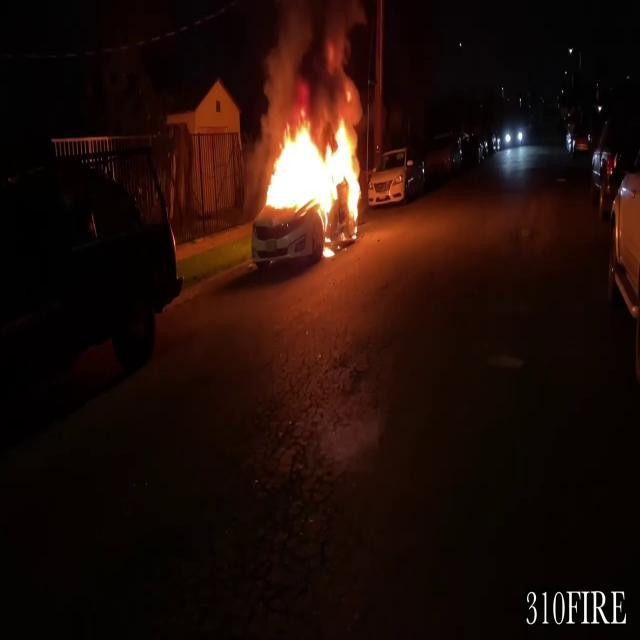Fire: (260, 110, 366, 244)
Smoke: (261, 0, 367, 111)
